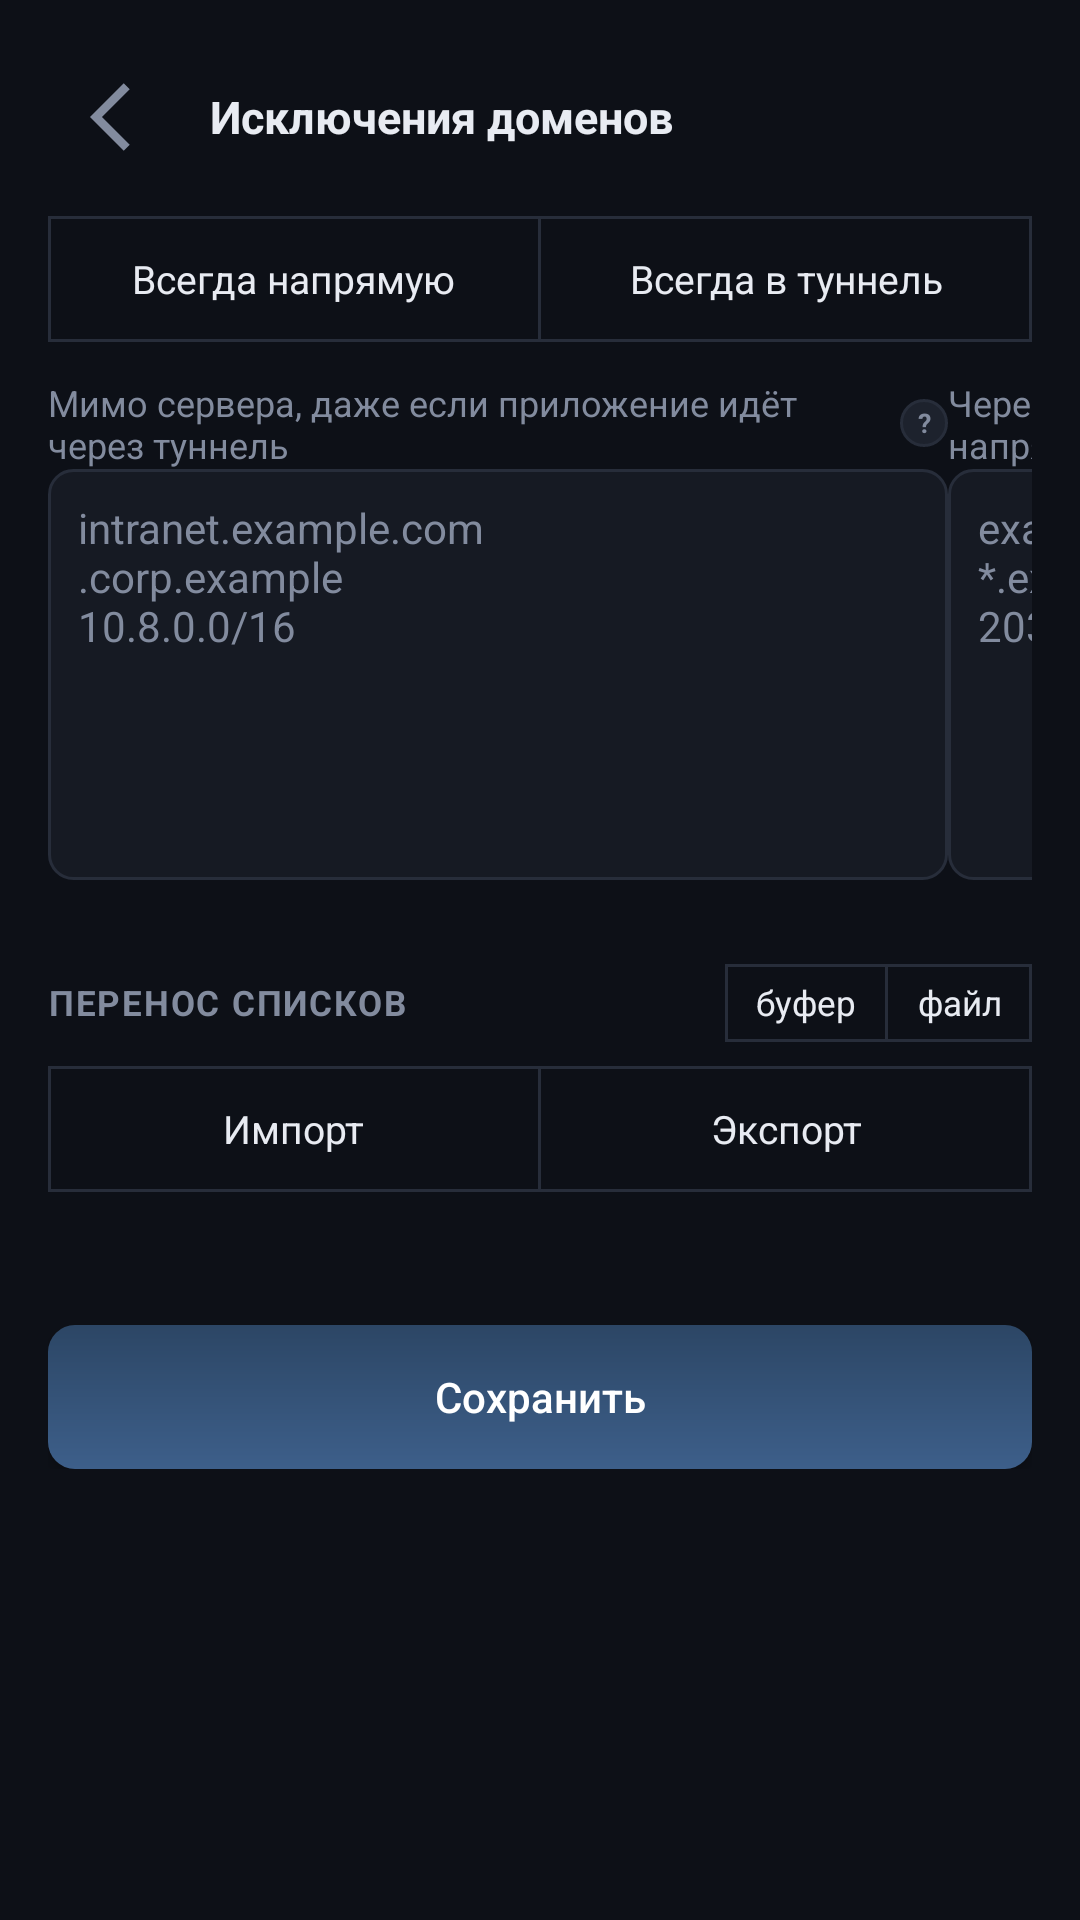

Named icons in this screenshot (1080 × 1920) and their centers, [x,y]:
Назад: [110,117]
